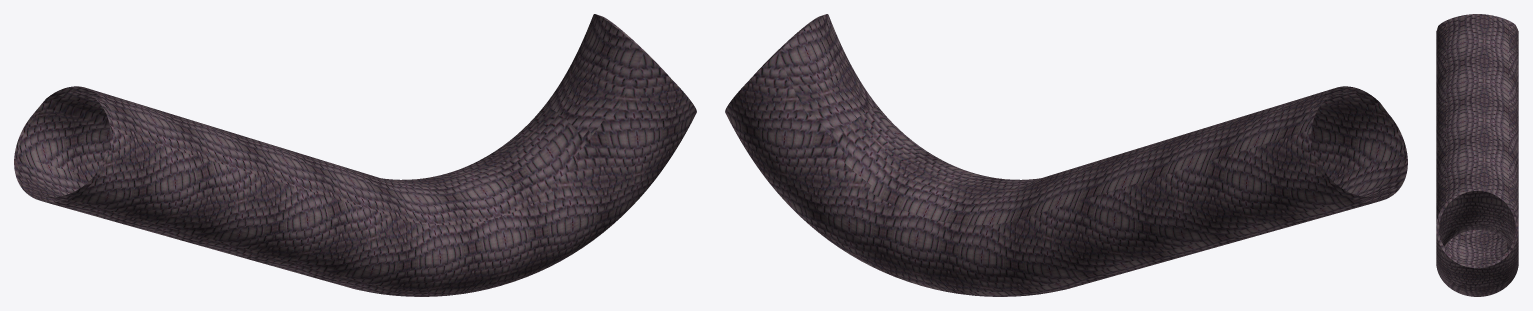
Rendered from disco_tube1.gltf.
3 renders of one model, left to right at view 1: azimuth 30°, elevation 25°; view 2: azimuth 150°, elevation 25°; view 3: azimuth 270°, elevation 25°, orthographic. The views are drawn at different scales.
Parts seen in each view (by area): view 1: tube-col; view 2: tube-col; view 3: tube-col.
Boxes of the visible parts, x1,y1,x2,y2 form: tube-col: [14, 14, 696, 296]; tube-col: [725, 14, 1407, 296]; tube-col: [1436, 14, 1518, 296].
Size of the model in its own units: 73.57 by 30.35 by 14.05.
Materials: 1 (1 with a texture image).
